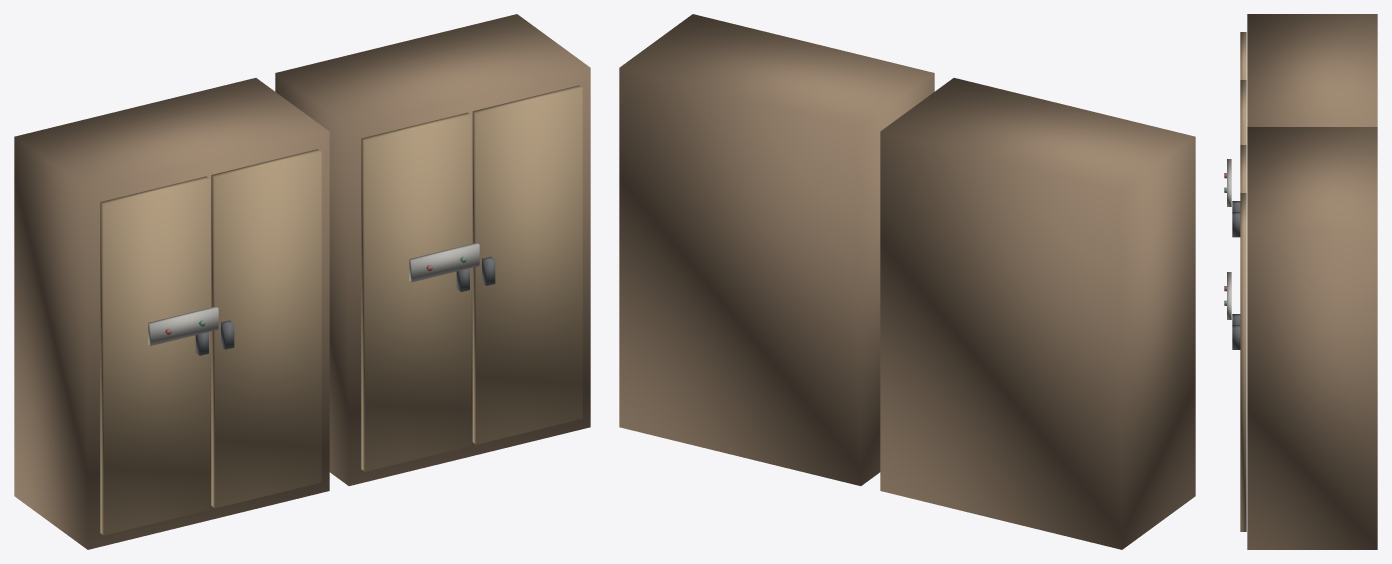
Rendered from typesetter_drawer_cabinet__cluster.glb.
3 views of the same model, side by side, from view 1: azimuth 30°, elevation 25°; view 2: azimuth 150°, elevation 25°; view 3: azimuth 270°, elevation 25° (orthographic). The views are drawn at different scales.
Parts seen in each view (by area): view 1: world; view 2: world; view 3: world.
Part boxes in pixels (<box>): world: <box>14,14,590,549</box>; world: <box>619,14,1195,549</box>; world: <box>1224,14,1377,549</box>.
Bounding box in the file's own units: 1.98 × 1.35 × 0.5885.
